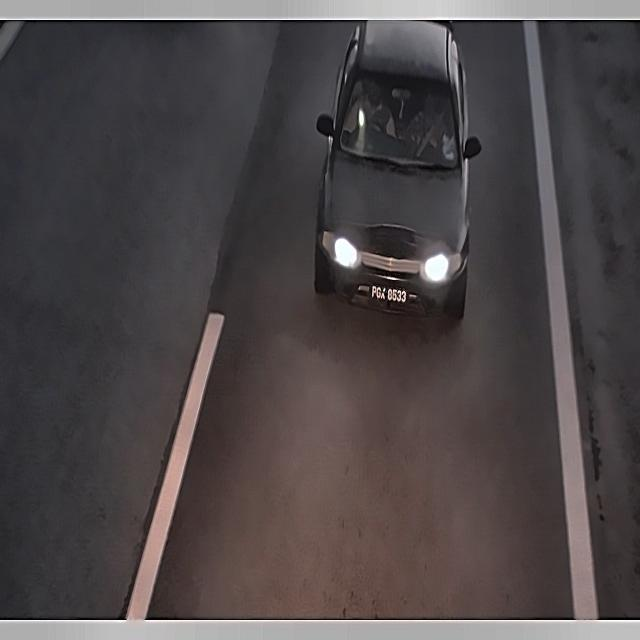car: (365, 274, 412, 312)
